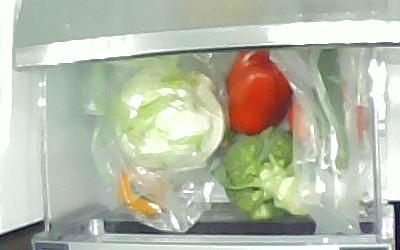apple_vinyl: (288, 82, 368, 150)
broccoli: (209, 125, 310, 220)
cucumber_vinyl: (306, 48, 348, 178)
lettuce_vinyl: (113, 57, 225, 172)
paprika: (226, 48, 293, 137)
persimmon_vinyl: (119, 168, 166, 219)
